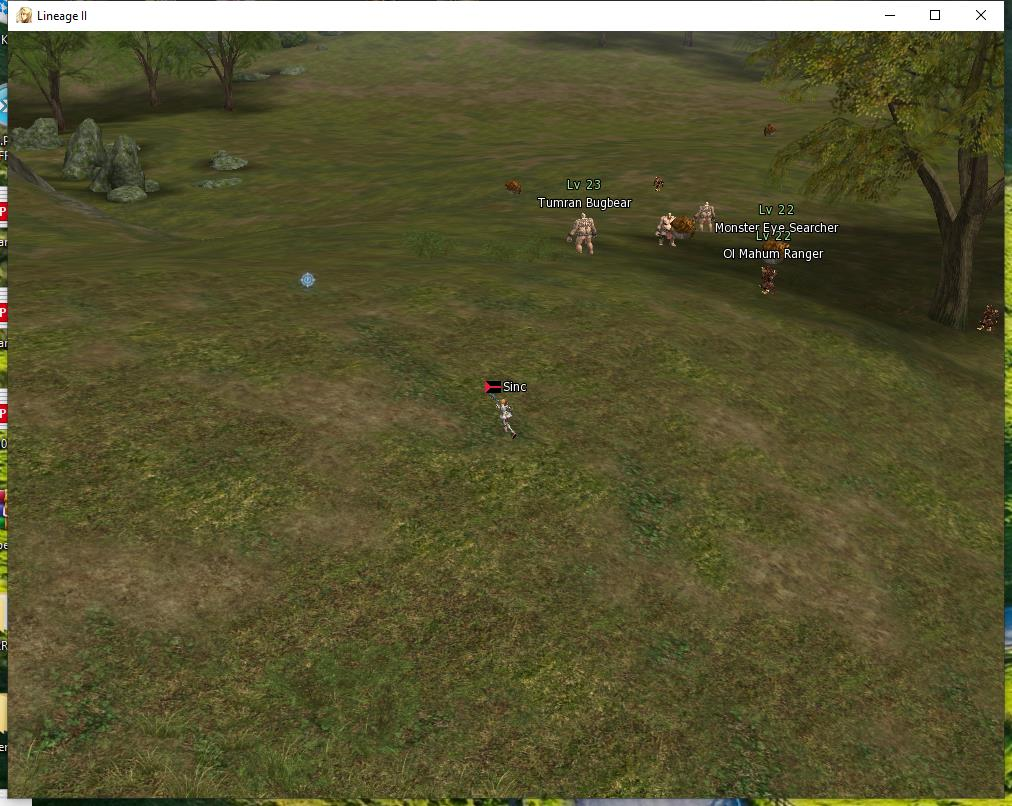monster: (543, 169, 635, 260), (719, 239, 827, 300), (720, 183, 841, 237), (654, 208, 691, 251), (696, 196, 720, 242), (984, 296, 1000, 334), (502, 174, 523, 196), (759, 117, 779, 138), (654, 170, 668, 192)
